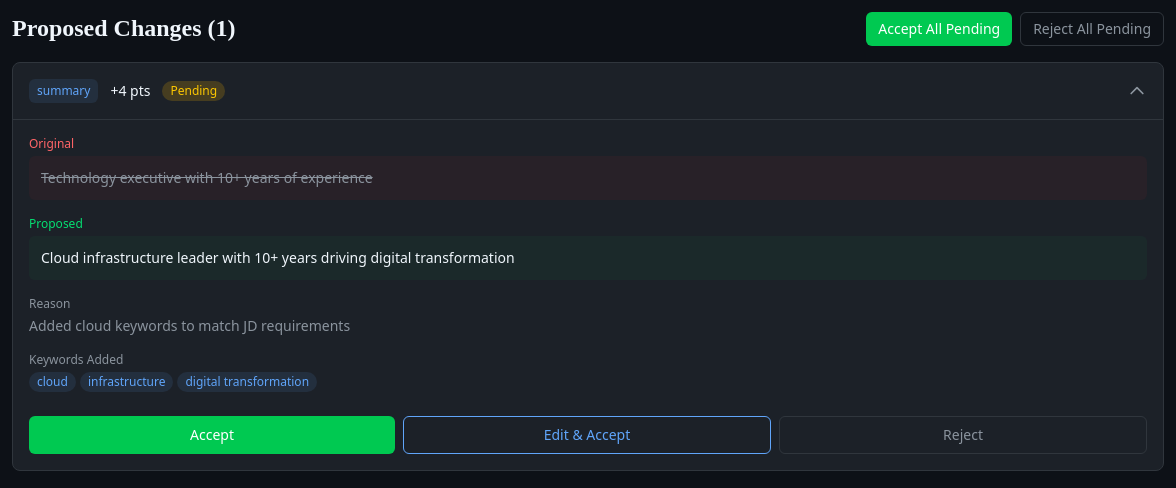
Test: ChangePreviewPanel › Edit Flow › exits edit mode and preserves original when Cancel is clicked
Click the button "Edit & Accept". click: x=587, y=435
box: [403,416,771,454]
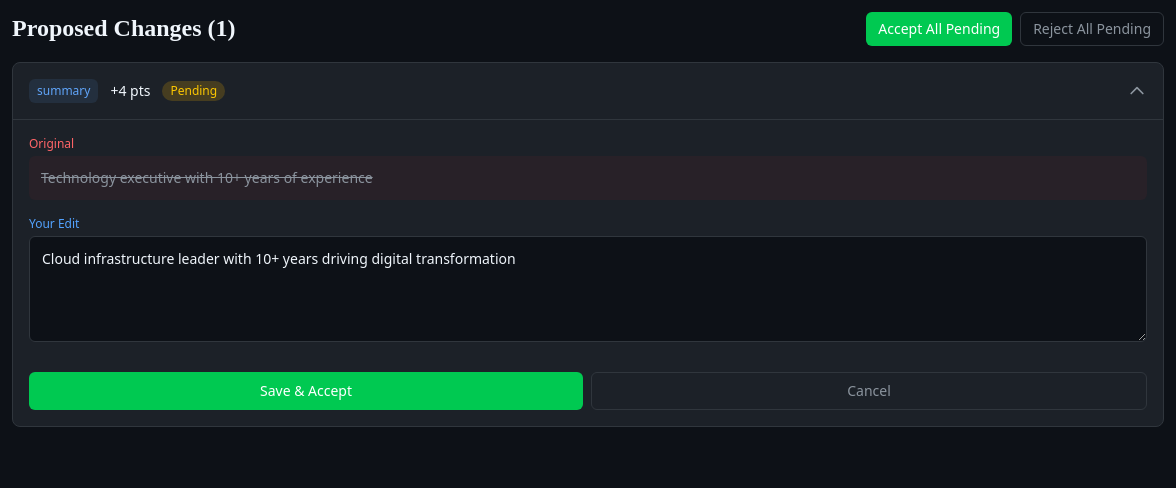
Replace the text in the text box with "Should be discarded". click: x=588, y=289
box: [29,236,1147,342]
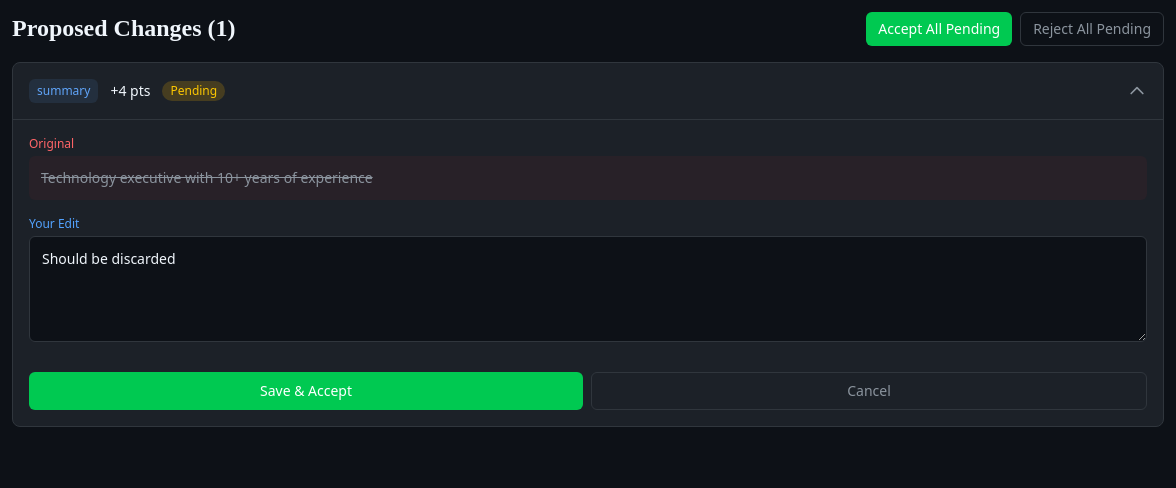
Click the button "Cancel". click: x=869, y=391
box: [591,372,1147,410]
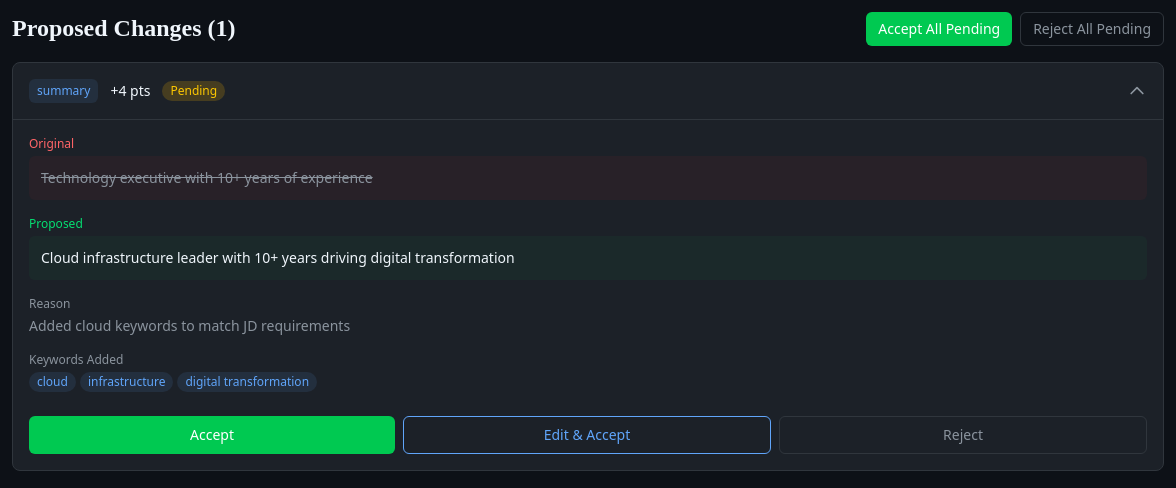
Now the button "Accept" is shown, box [29,416,395,454]
